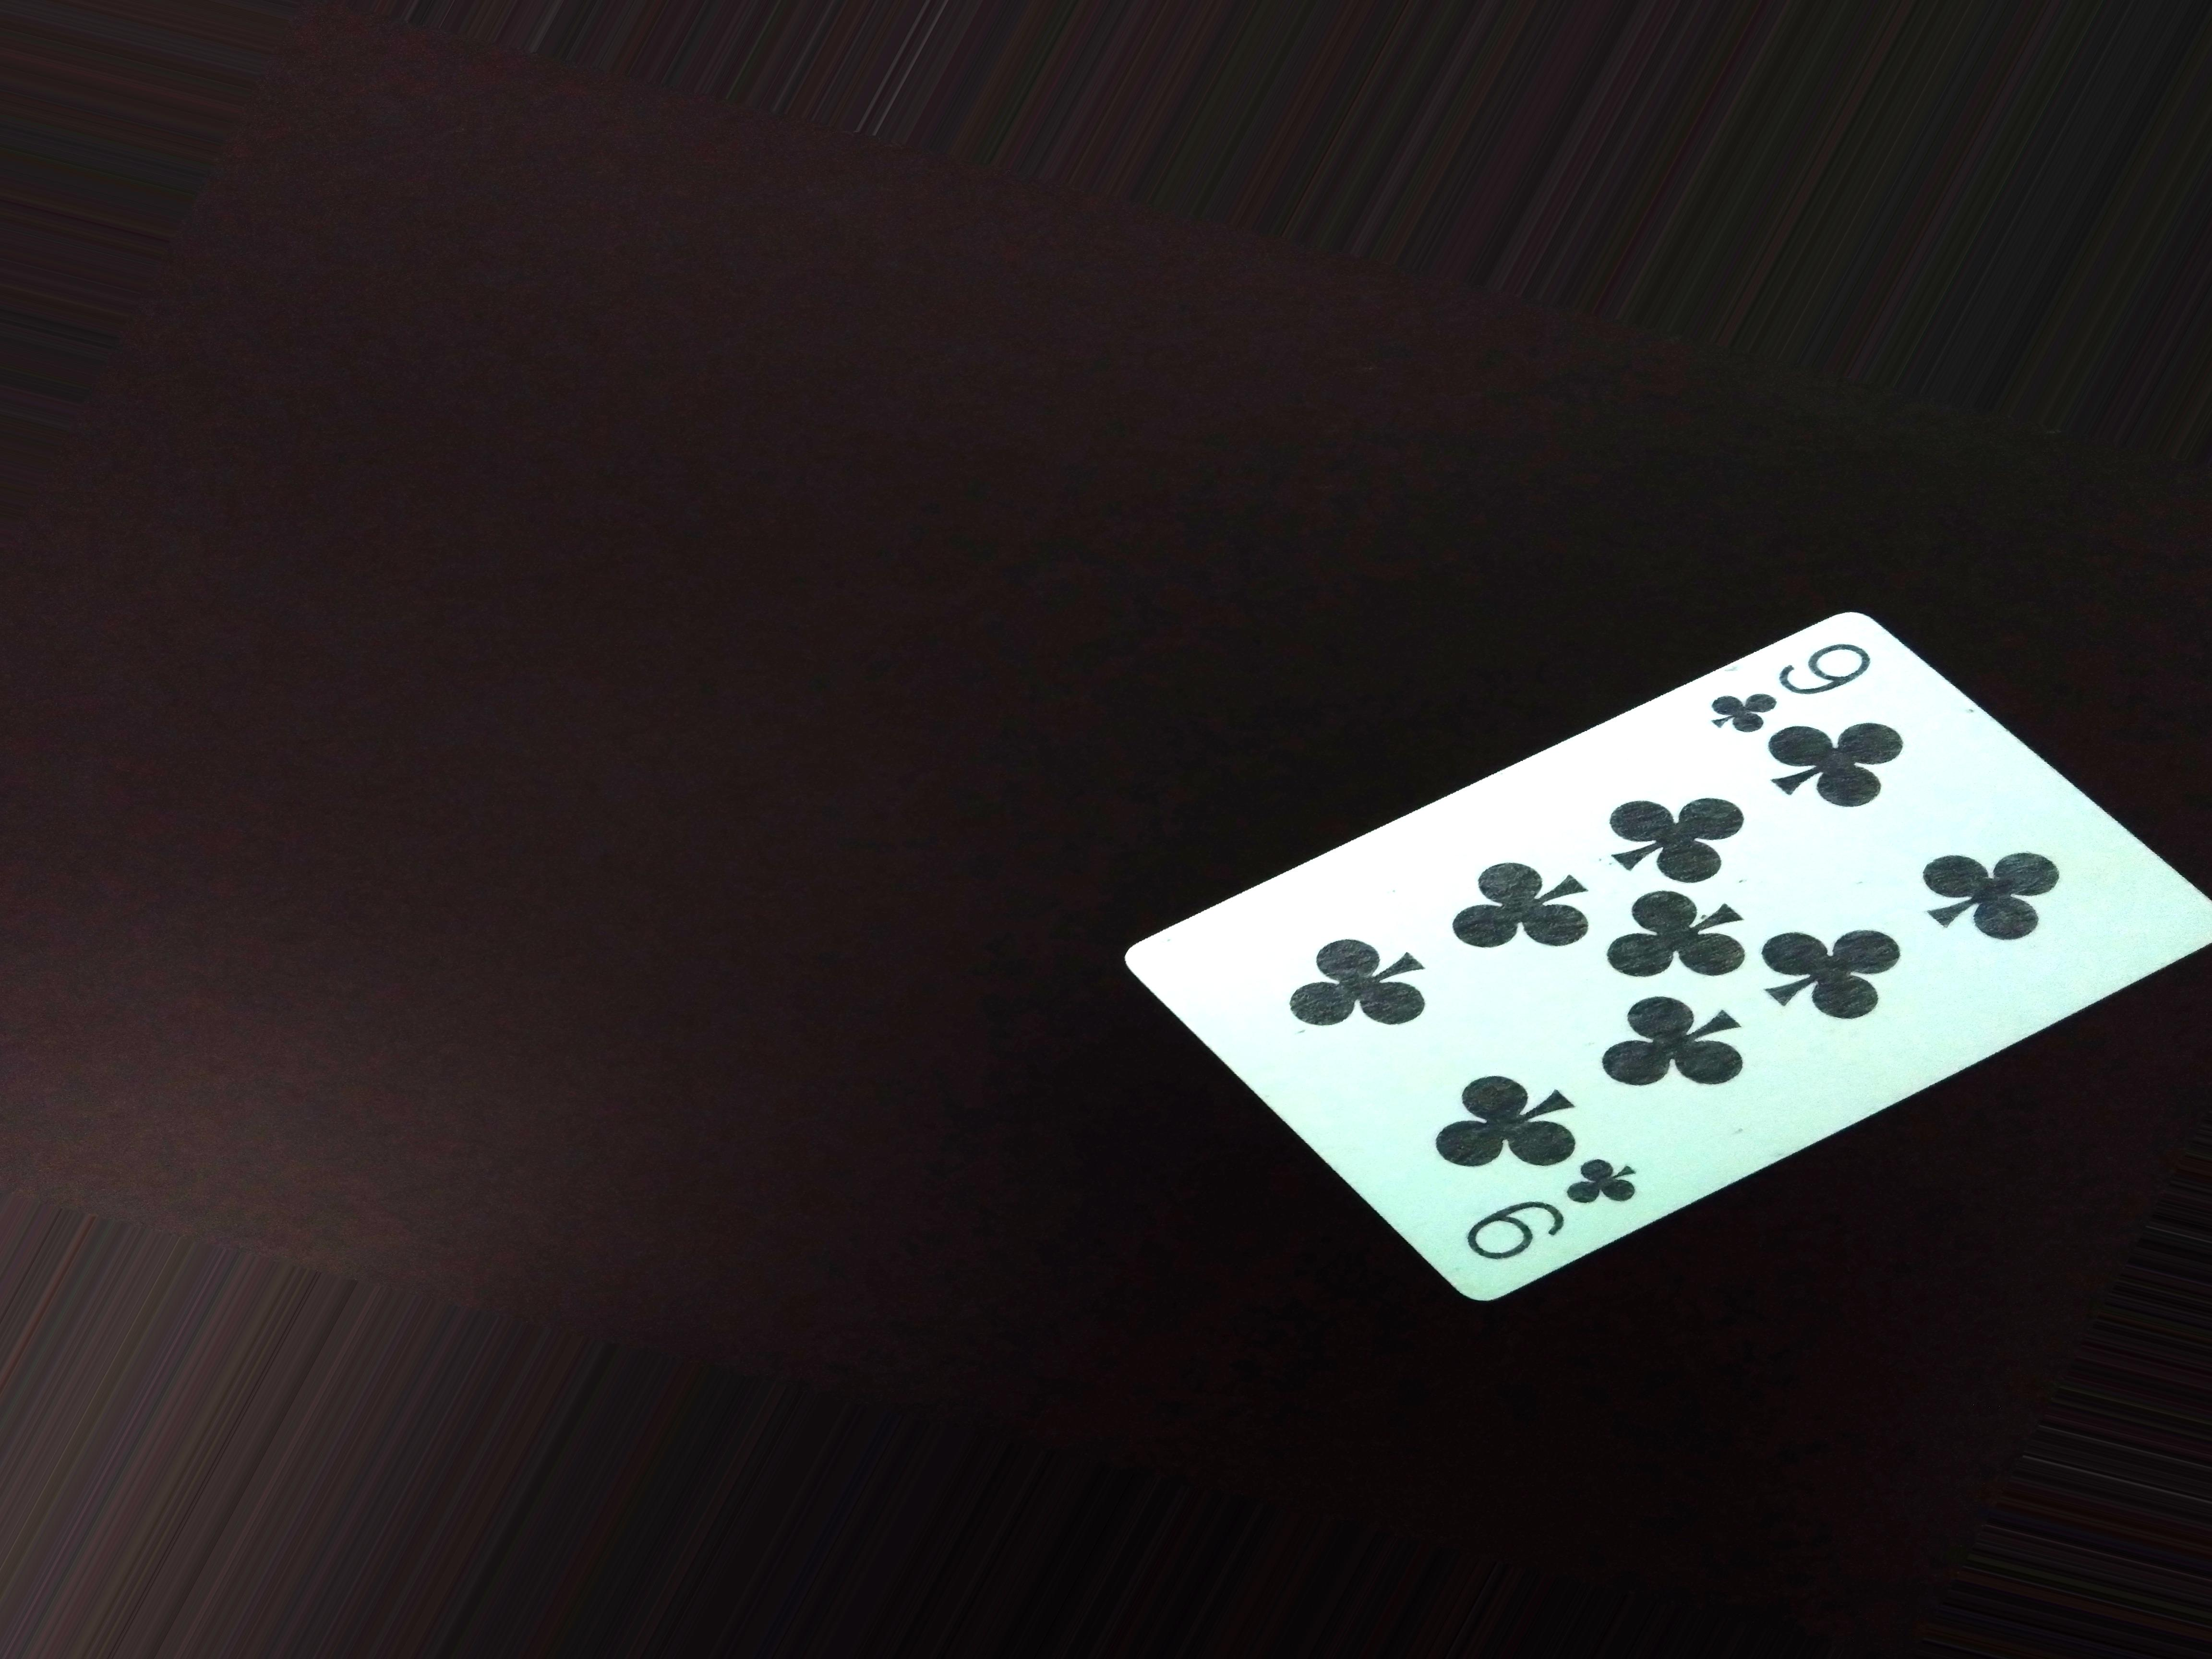9C: (1686, 633, 1892, 748)
